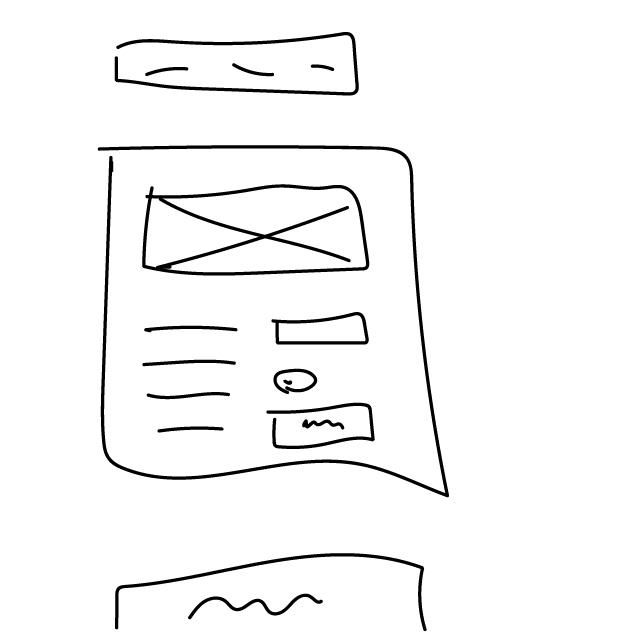button: (266, 403, 379, 454)
checkbox: (273, 368, 322, 398)
container: (86, 132, 456, 508)
footer: (105, 548, 444, 640)
frame: (136, 177, 377, 283)
input: (270, 308, 378, 352)
nav: (109, 30, 373, 103)
text: (137, 319, 254, 442)
